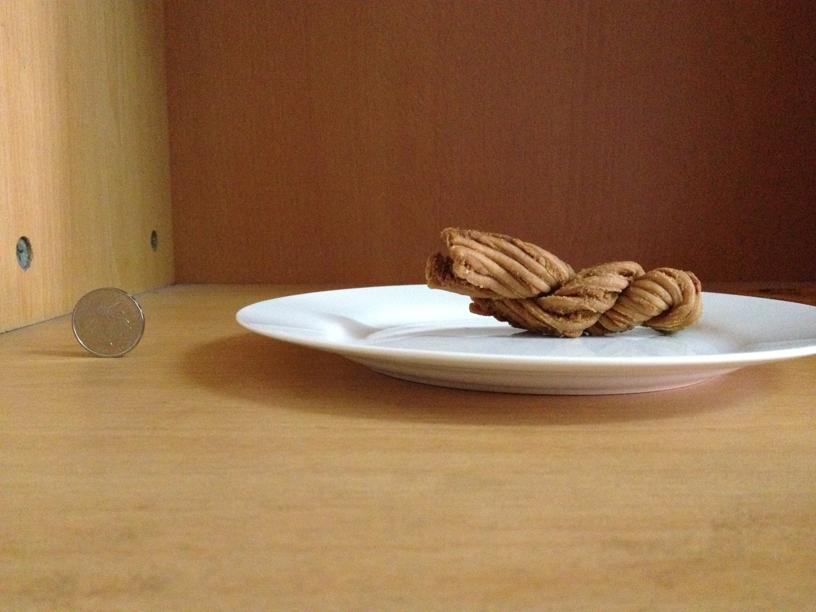coin: (68, 286, 144, 356)
fired_dough_twist: (419, 225, 702, 336)
